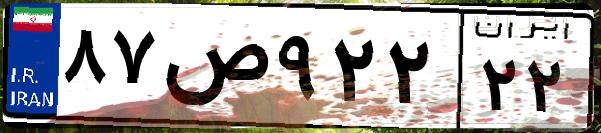2: (385, 28, 445, 110), (330, 28, 385, 110), (475, 38, 525, 113), (525, 38, 570, 115)
7: (110, 28, 158, 98)
8: (57, 26, 110, 100)
9: (270, 28, 330, 110)
ص: (158, 20, 270, 120)
